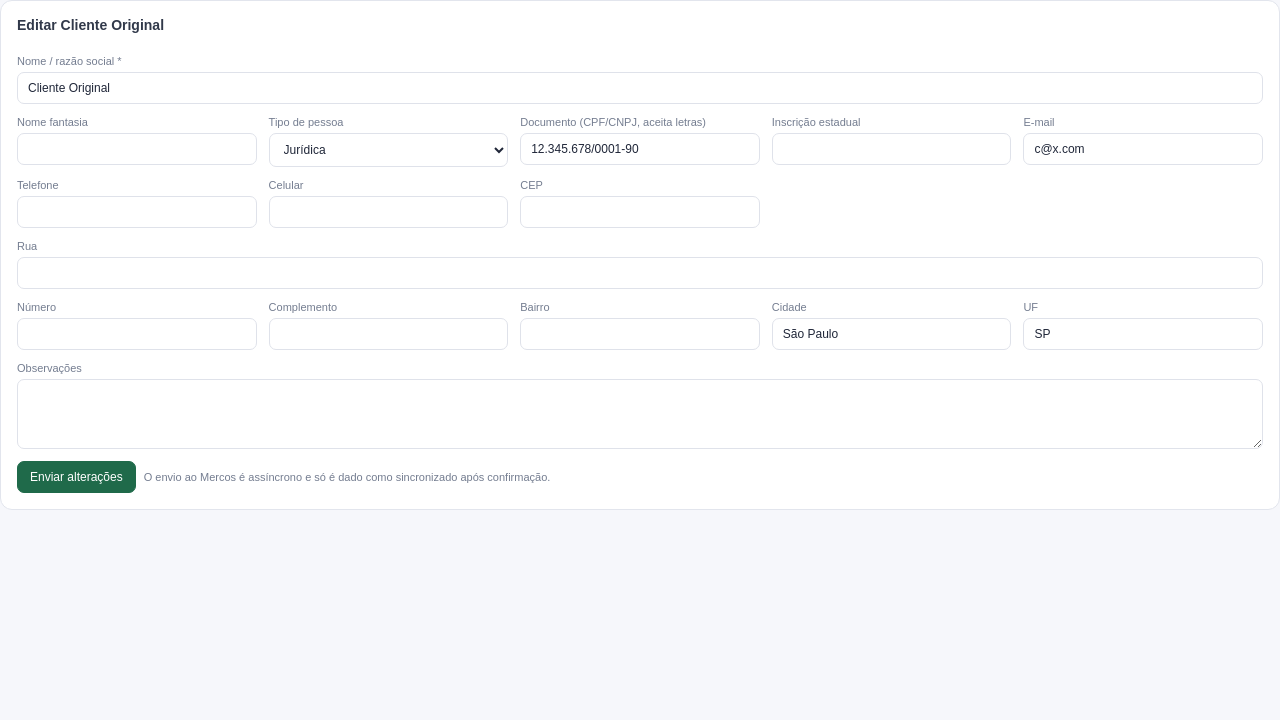
Test: envia só os campos alterados + expectedVersion, com Idempotency-Key, e mostra 'Envio pendente'
The width and height of the screenshot is (1280, 720).
Replace the text in the field labelled "Cidade" with "Rio de Janeiro": (892, 334) [772,318,1011,350]
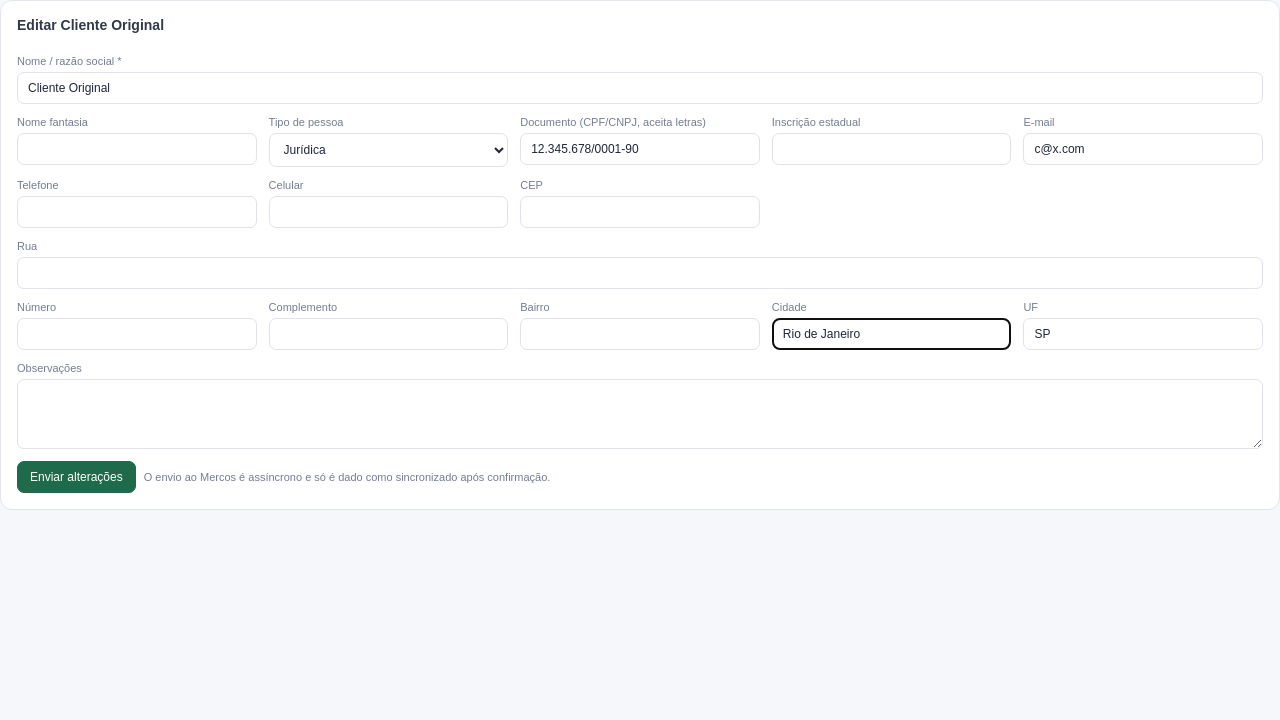
Click the button "Enviar alterações": (76, 477) [17,461,136,493]
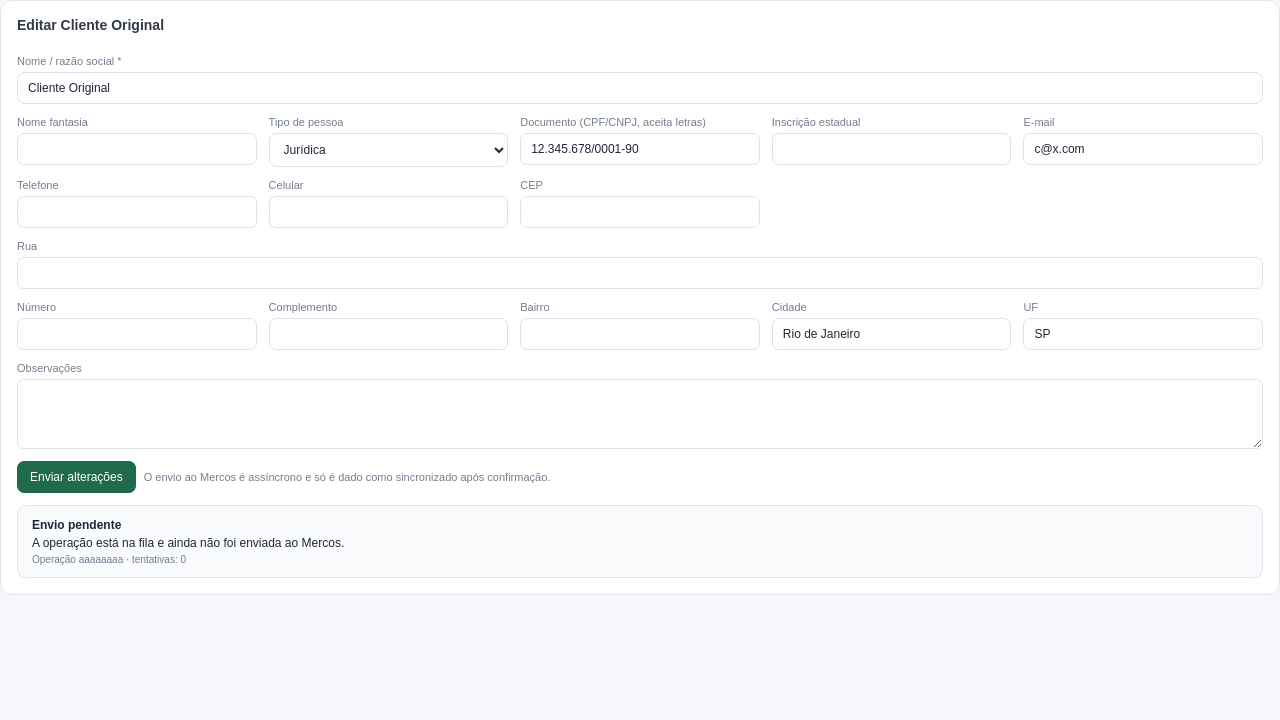
Now the text "Envio pendente" is shown, box [32,518,121,532]
